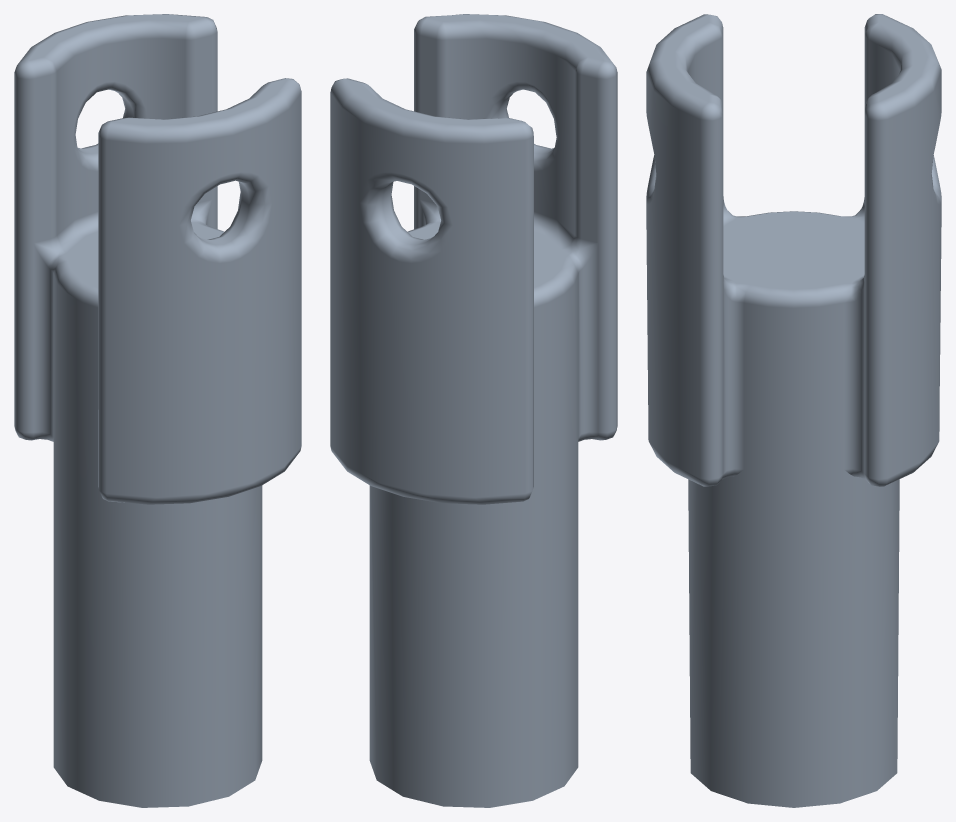
File: weaponpost.obj
3 renders of one model, left to right at view 1: azimuth 30°, elevation 25°; view 2: azimuth 150°, elevation 25°; view 3: azimuth 270°, elevation 25°, orthographic.
Parts seen in each view (by area): view 1: 1; view 2: 1; view 3: 1.
Part boxes in pixels (x1,y1,x2,y2): 1: (14,14,301,807); 1: (330,14,617,807); 1: (646,14,941,807).
Bounding box in the file's own units: 16.61 × 55 × 20.9.
